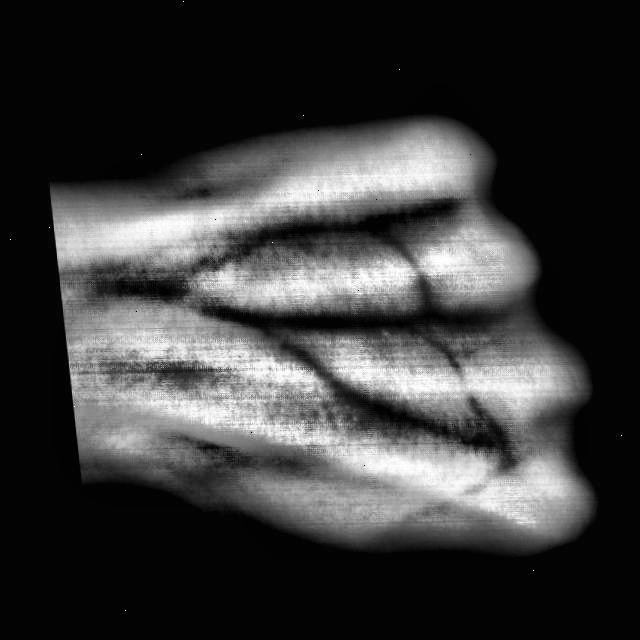Vein: (179, 292, 385, 335)
